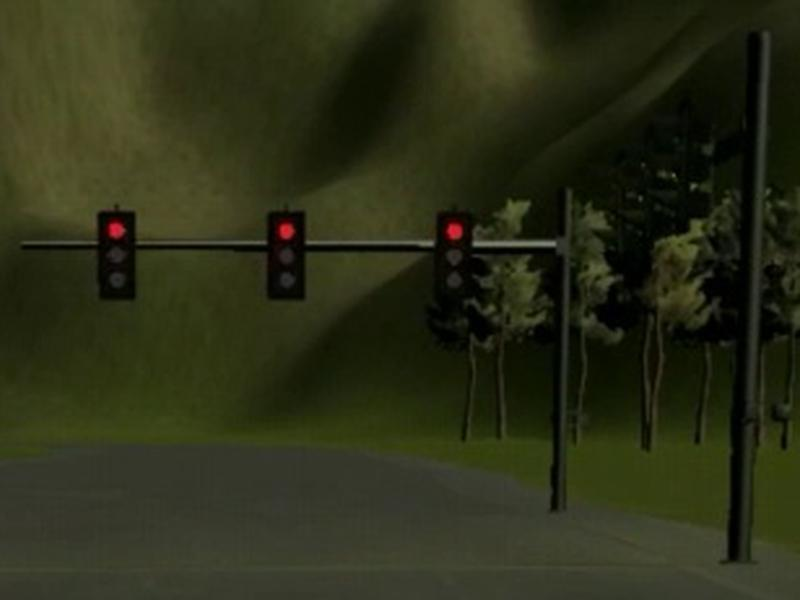Red: (96, 211, 136, 298), (269, 210, 306, 301), (436, 212, 471, 299)
